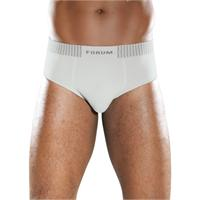mutande: (43, 36, 156, 113)
